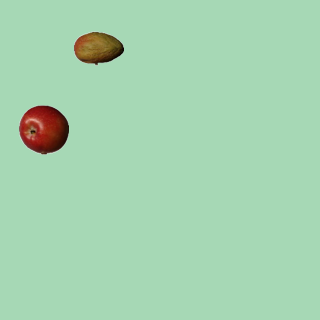Apple Braeburn: (18, 104, 68, 154)
Papaya: (73, 23, 123, 73)
